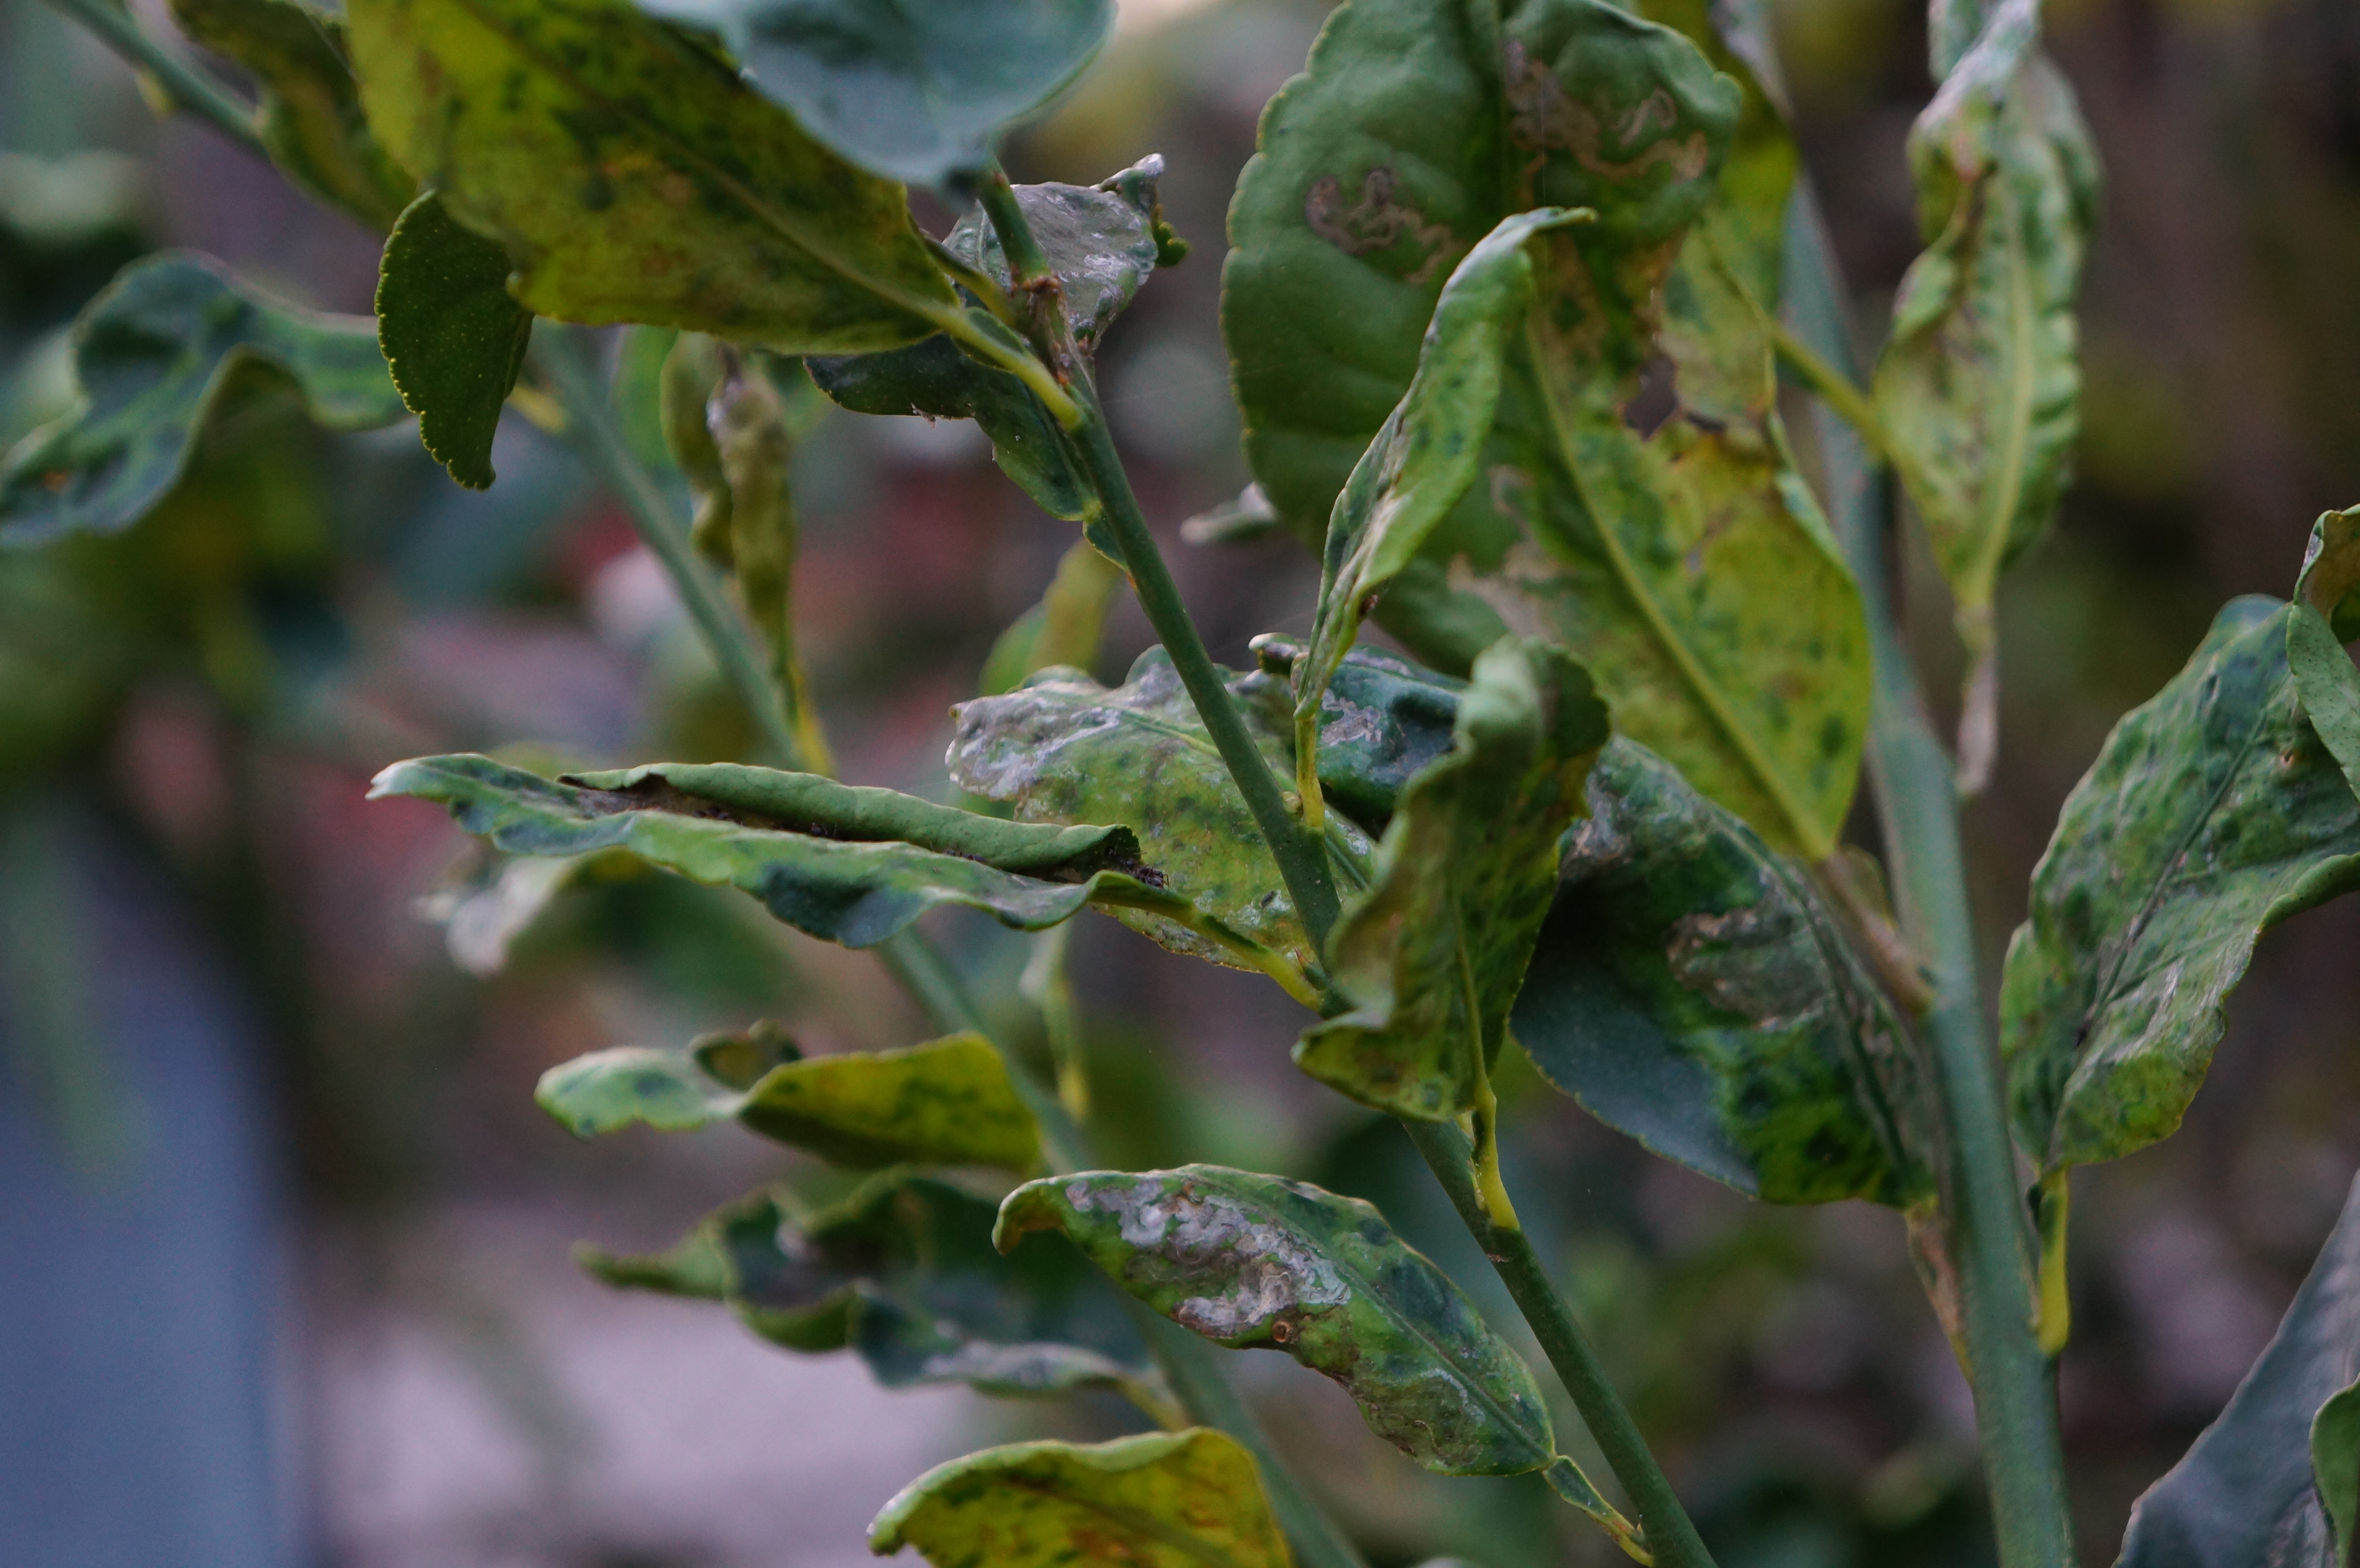curly: (981, 1162, 1592, 1512), (350, 728, 1197, 959)
damage: (959, 1141, 1574, 1501), (936, 635, 1338, 975), (1651, 875, 1933, 1223), (1491, 28, 1702, 222), (1295, 156, 1470, 301)
